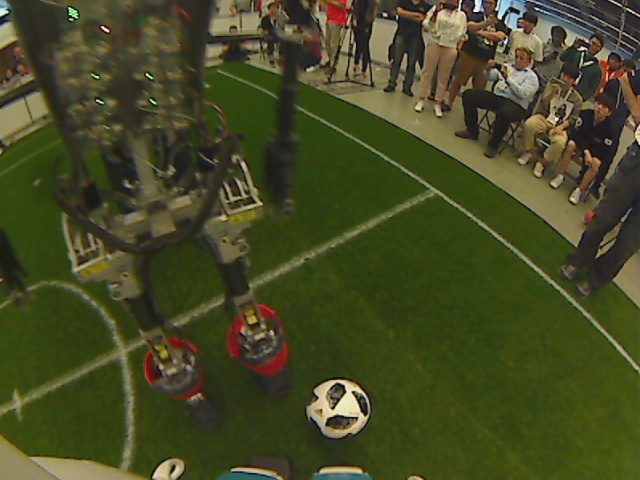ball: (305, 374, 371, 444)
